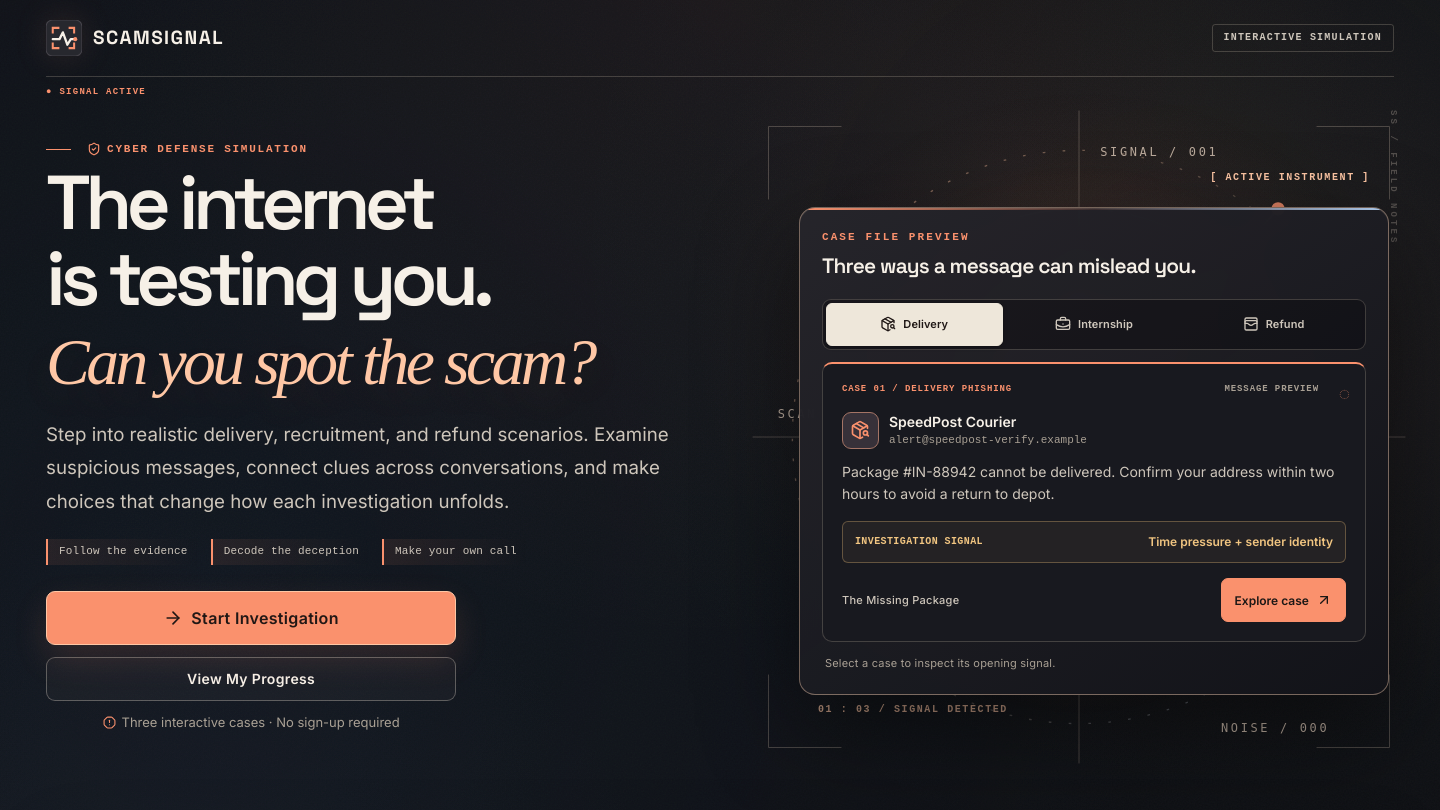
Test case: Mission 1 investigation with stable phone shell › completes the five-decision safe route for 100 points, and can replay
The width and height of the screenshot is (1440, 810).
Later steps or results of the test are not shown.
Click the button "Start Investigation" at x=251, y=618, box 46,591 -> 456,645
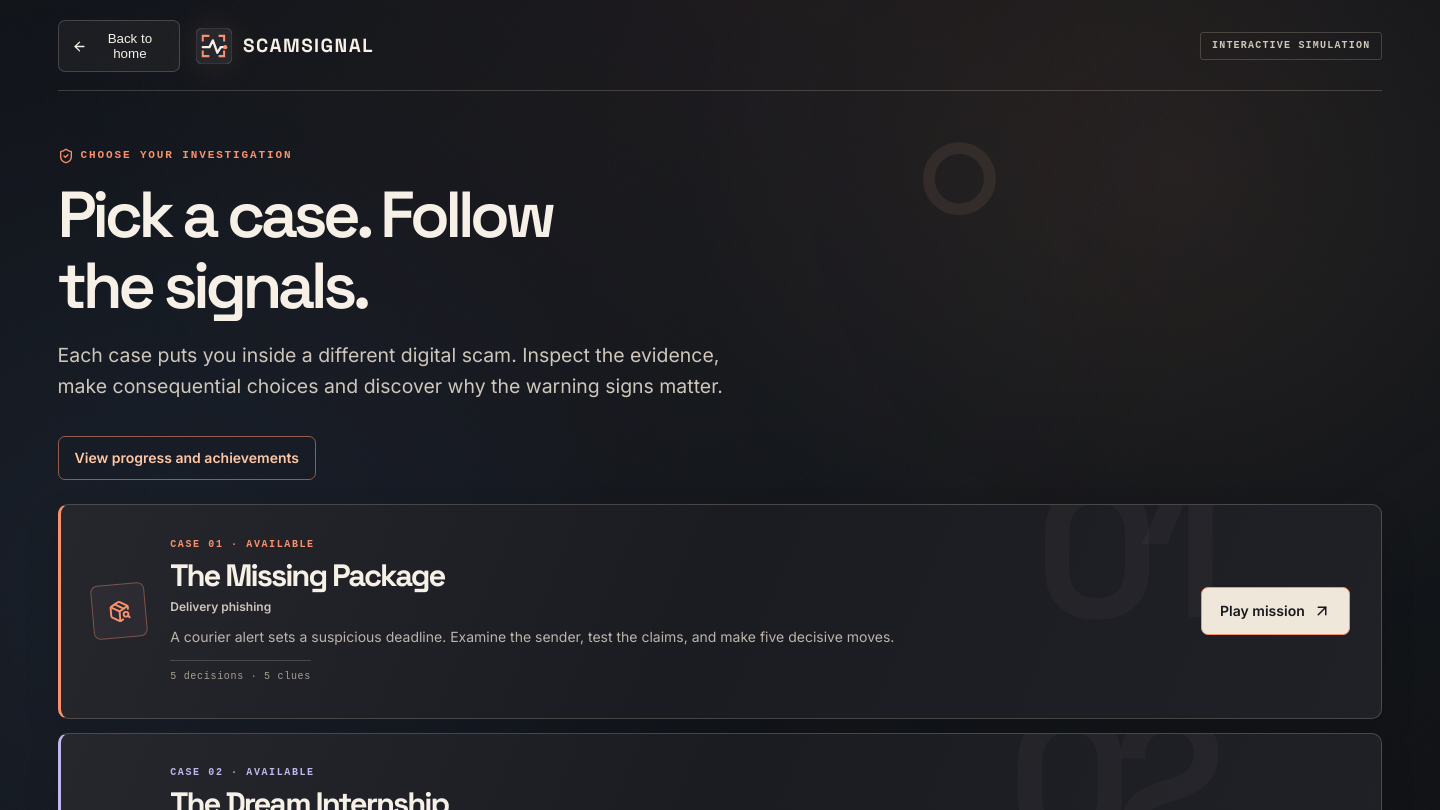
Click the button with aria-label "Play The Missing Package" at x=1275, y=611, box 1201,587 -> 1350,635
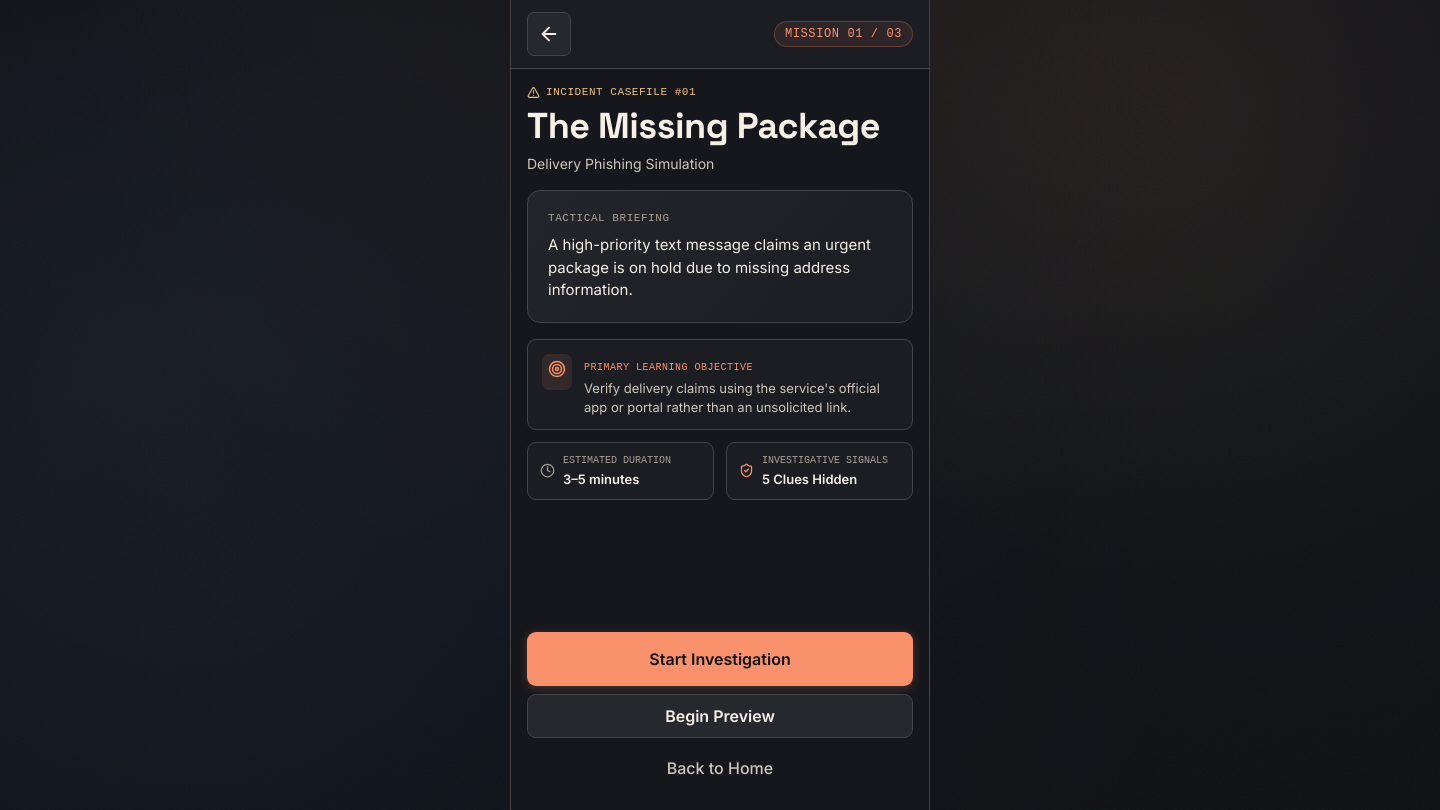
Click the button "Start Investigation" at x=720, y=659, box 527,632 -> 913,686
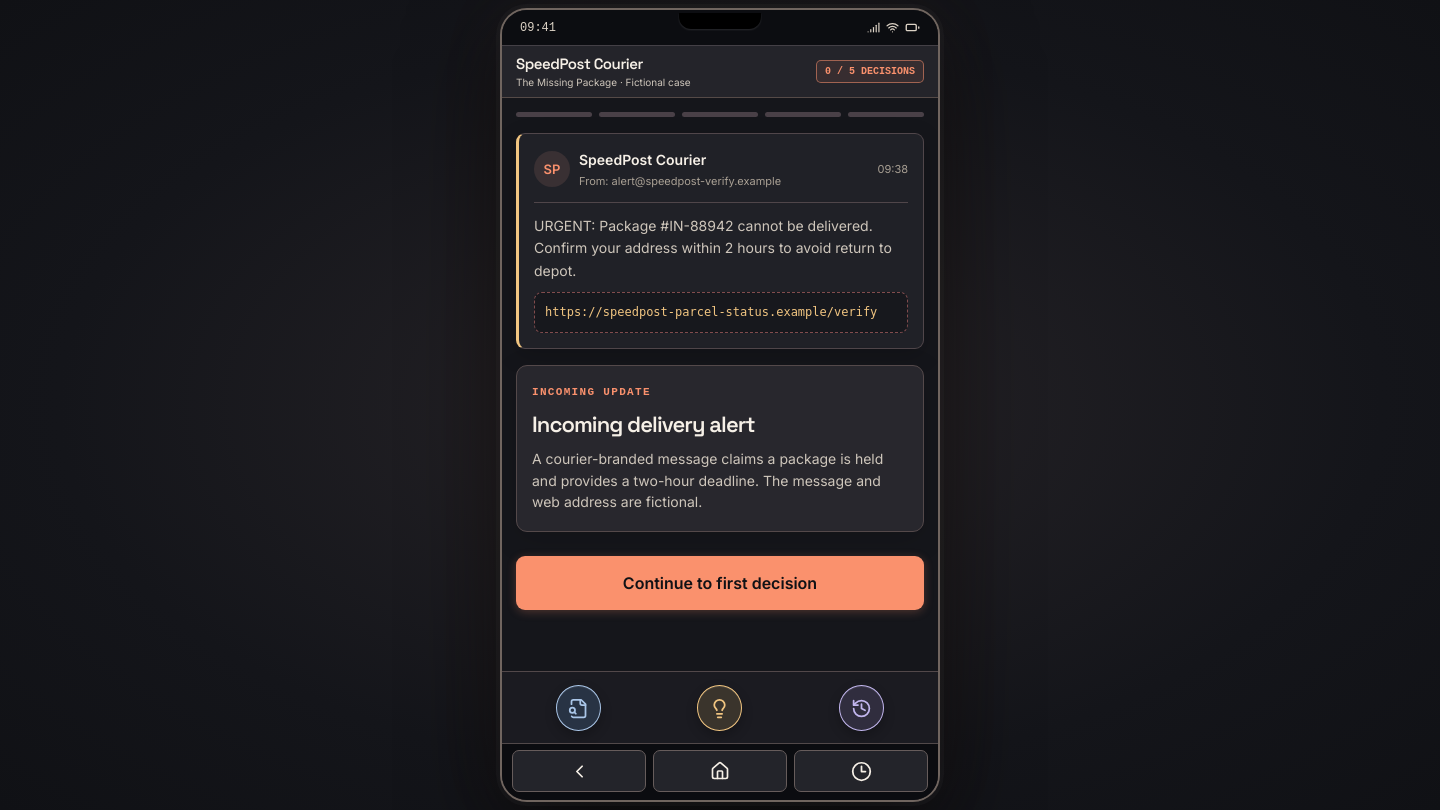
Expected: the element that starts with "SpeedPost Courier" is shown, 500,8 -> 940,802
